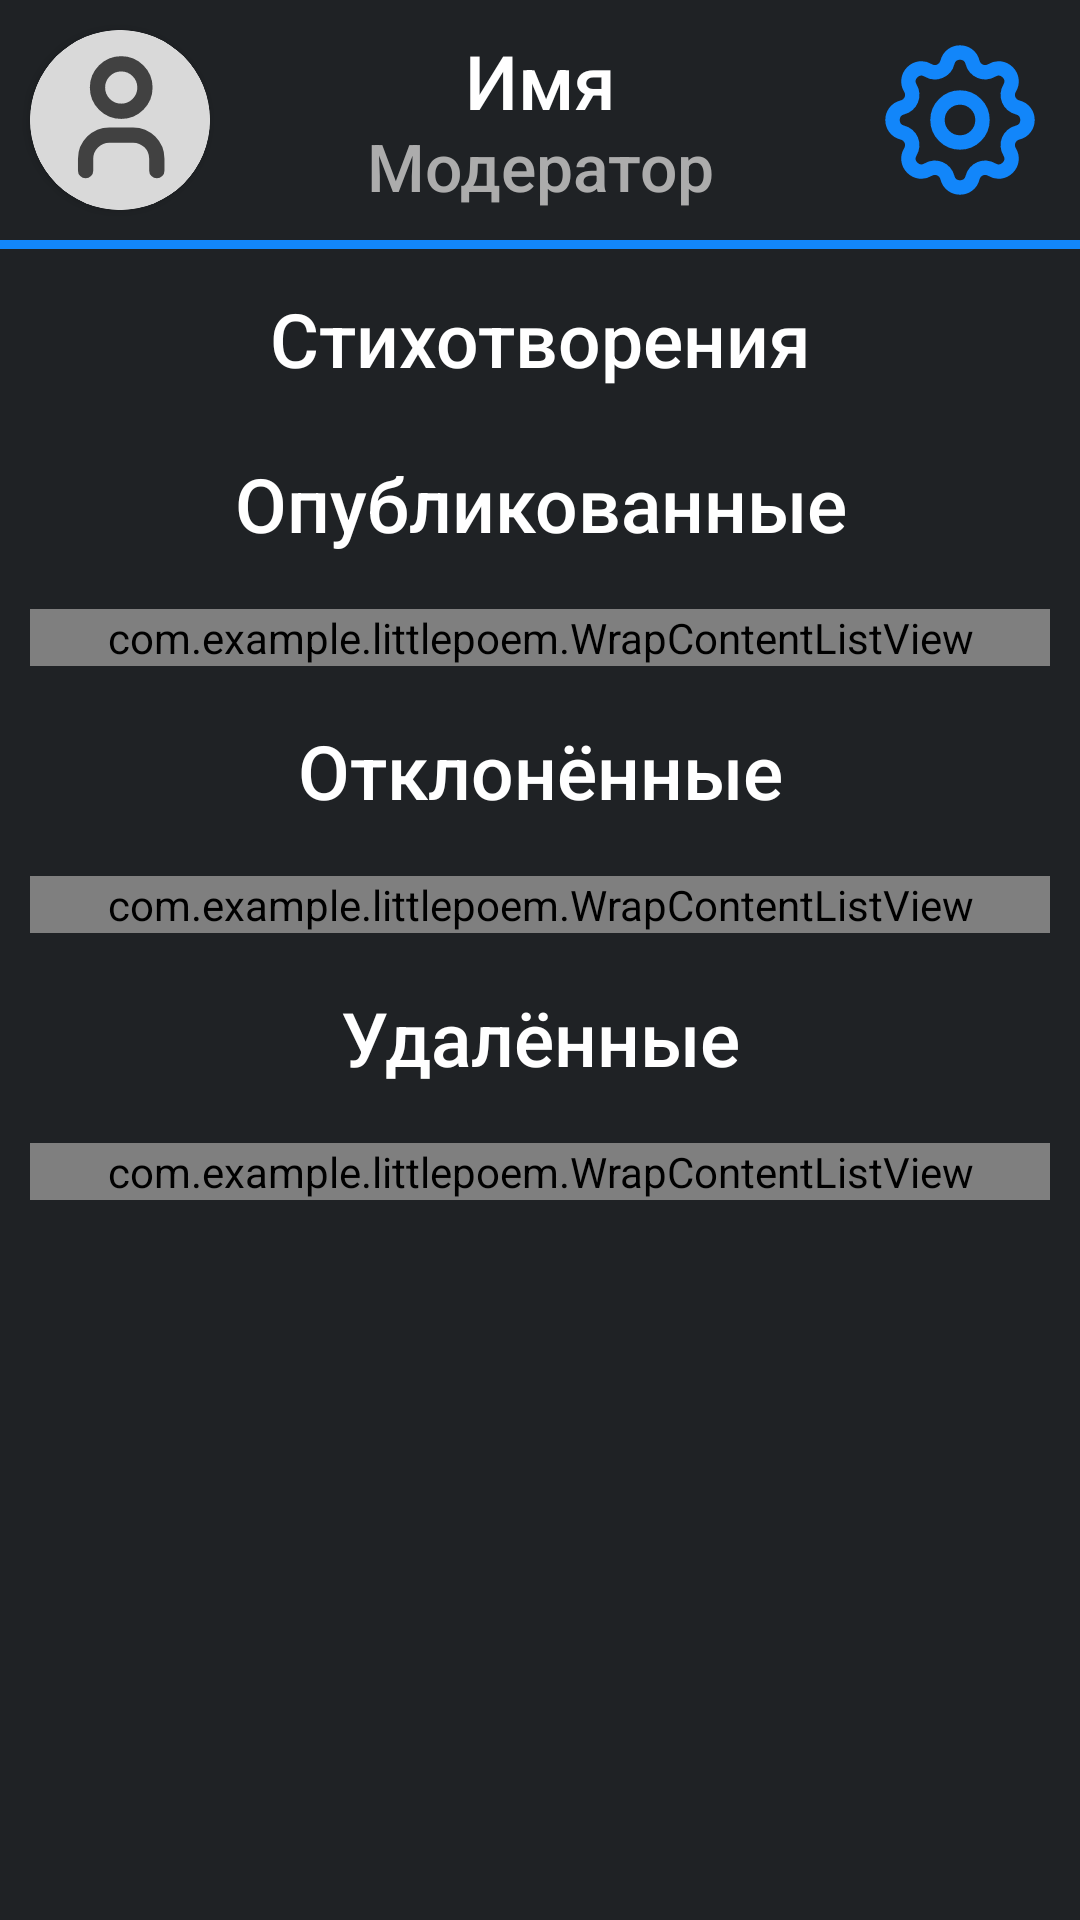

Where icons sit on this 1080*1920 app screen, as (x1, y1, x2, y2):
profile empty: (30, 30, 210, 210)
settings: (885, 45, 1035, 195)
